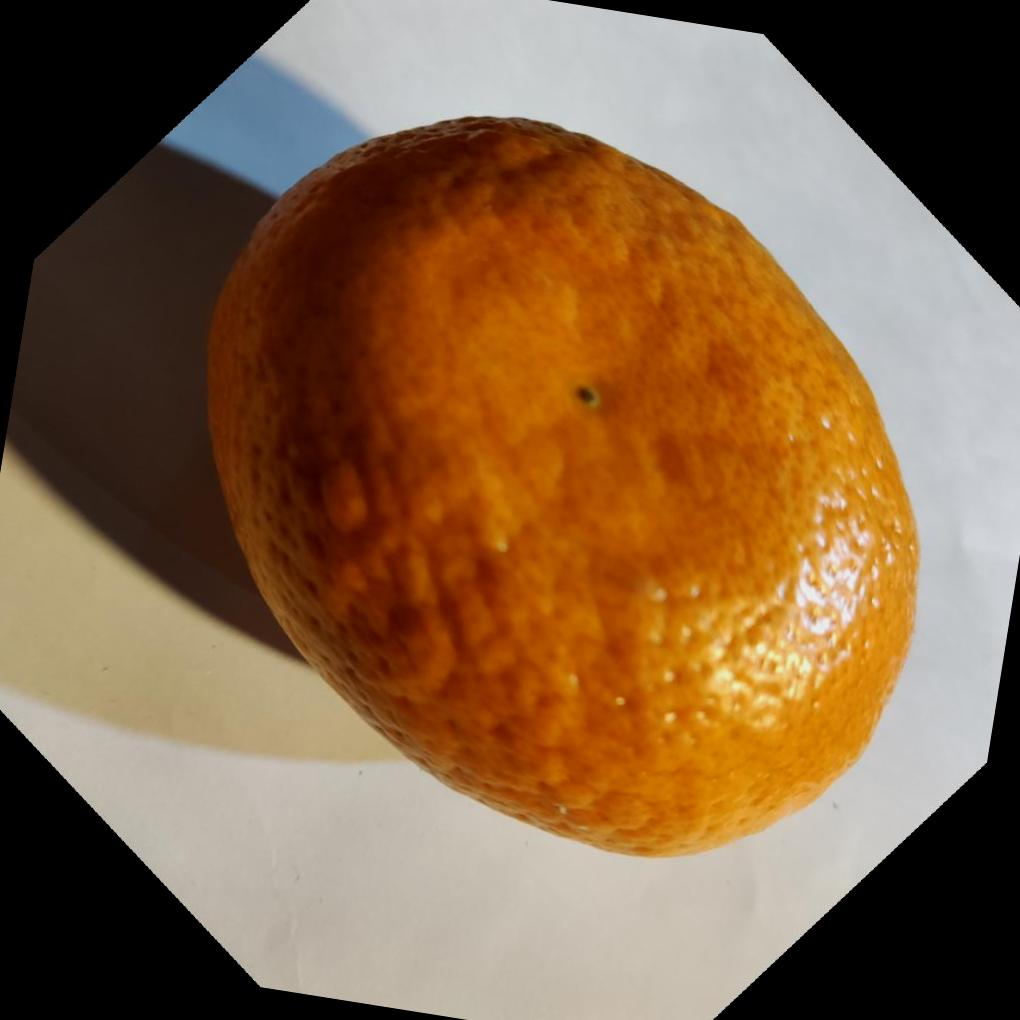FreshGuava: (202, 116, 921, 862)
